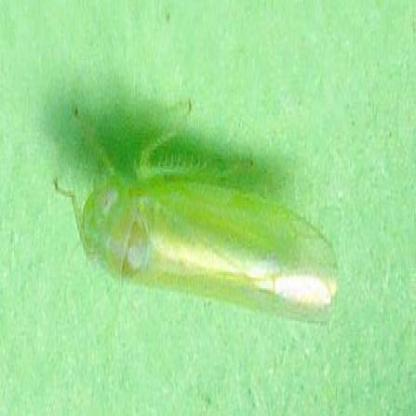green-leafhopper: (70, 156, 334, 320)
